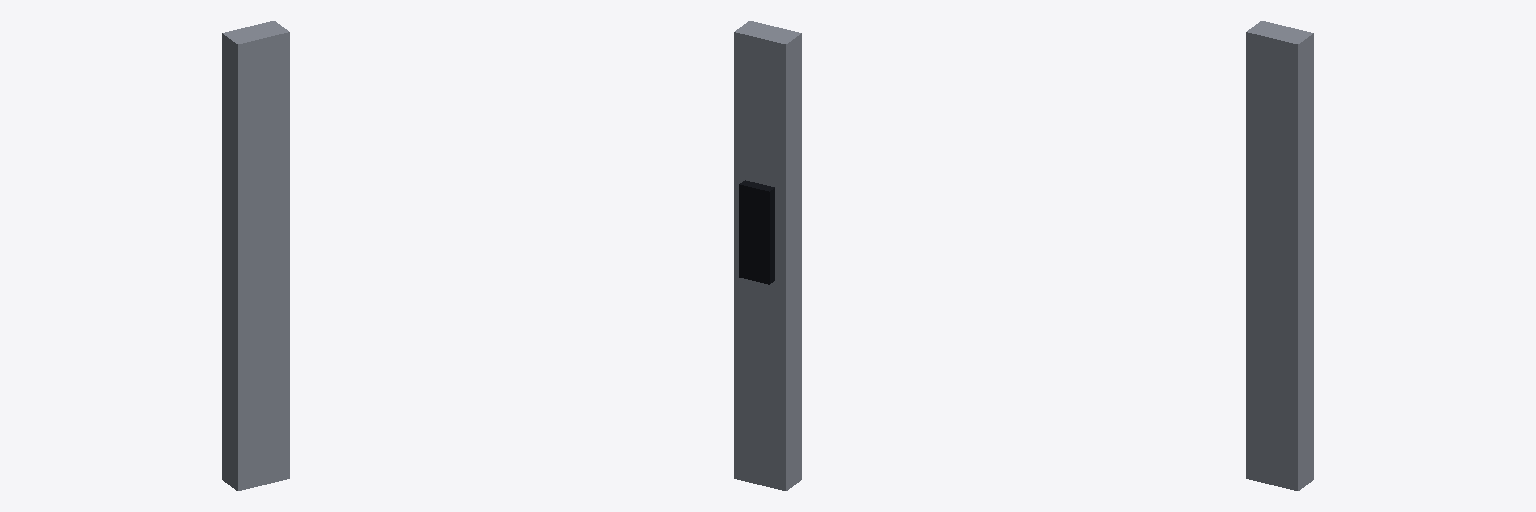
robot.urdf — artmanip_knife_016:
<?xml version='1.0' encoding='utf-8'?>
<robot name="artmanip_knife_016"><link name="link_0"><inertial><mass value="0.029" /><inertia ixx="5.048166098505772e-05" iyy="5.1026927658120854e-05" izz="9.518868717688556e-07" ixy="0" ixz="0" iyz="0" /></inertial><visual><geometry><box size="0.01759988368789147 0.009172148983395195 0.14423881186857157" /></geometry><material name="link_0_color"><color rgba=".58 .60 .64 1" /></material></visual><collision><geometry><box size="0.01759988368789147 0.009172148983395195 0.14423881186857157" /></geometry></collision></link><link name="link_1"><inertial><mass value="0.006" /><inertia ixx="4.5749436867312863e-07" iyy="5.042298820594005e-07" izz="5.7820831565369155e-08" ixy="0" ixz="0" iyz="0" /></inertial><visual><geometry><box size="0.010225279700411184 0.003329462145617106 0.030064986598486287" /></geometry><material name="link_1_color"><color rgba=".12 .13 .15 1" /></material></visual><collision><geometry><box size="0.010225279700411184 0.003329462145617106 0.030064986598486287" /></geometry></collision></link><joint name="slider" type="prismatic"><parent link="link_0" /><child link="link_1" /><origin xyz="0.0 0.00625080556450615 0.010102871433781111" /><axis xyz="0 0 1" /><limit lower="-0.031738693214066846" upper="0.018261306785933157" effort="100" velocity="1" /><dynamics damping="1000" friction="0.001" /></joint></robot>

--- Facts derived from the render (not from the file) ---
The picture shows the robot from 3 angles, left to right: view 1: azimuth 30°, elevation 25°; view 2: azimuth 150°, elevation 25°; view 3: azimuth 330°, elevation 25°; orthographic projection.
Model artmanip_knife_016 with 2 links and 1 joints (1 prismatic), rooted at link_0, posed every joint at zero.
Visible links, largest first — view 1: link_0; view 2: link_0, link_1; view 3: link_0.
Boxes of the visible links, x1,y1,x2,y2 form: link_0: (222, 21, 289, 490); link_0: (734, 21, 801, 490); link_1: (739, 180, 774, 284); link_0: (1246, 21, 1313, 490).
Size in the robot's own frame: 0.0176 by 0.0125 by 0.1442 metres.
Geometry: primitives only (box / cylinder / sphere), no mesh files.
